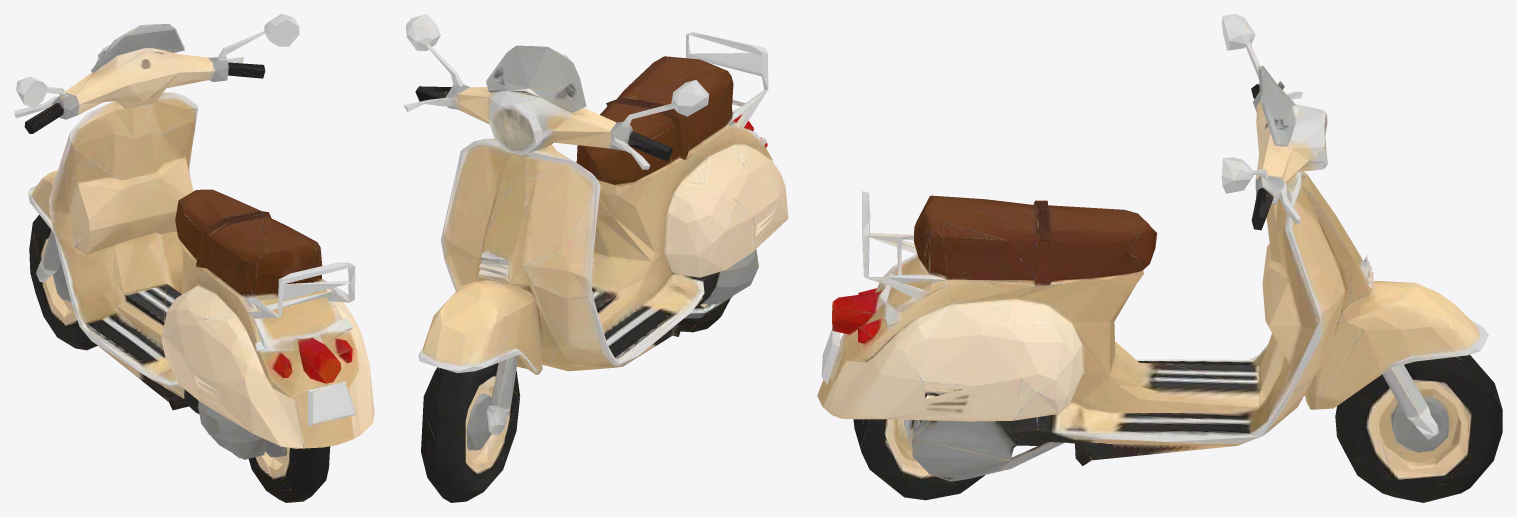
Rendered from vespro_neon_1.glb.
The picture shows the model from 3 angles, left to right: view 1: azimuth 30°, elevation 25°; view 2: azimuth 150°, elevation 25°; view 3: azimuth 270°, elevation 25°; orthographic projection. The views are drawn at different scales.
Visible parts, largest first — view 1: Carrozzeria; view 2: Carrozzeria; view 3: Carrozzeria.
Boxes of the visible parts, x1=… form: Carrozzeria: x1=14, y1=14, x2=374, y2=502; Carrozzeria: x1=403, y1=14, x2=788, y2=502; Carrozzeria: x1=817, y1=14, x2=1502, y2=502.
Size of the model in its own units: 0.9582 by 1.21 by 1.75.
1 material, 1 textured.
